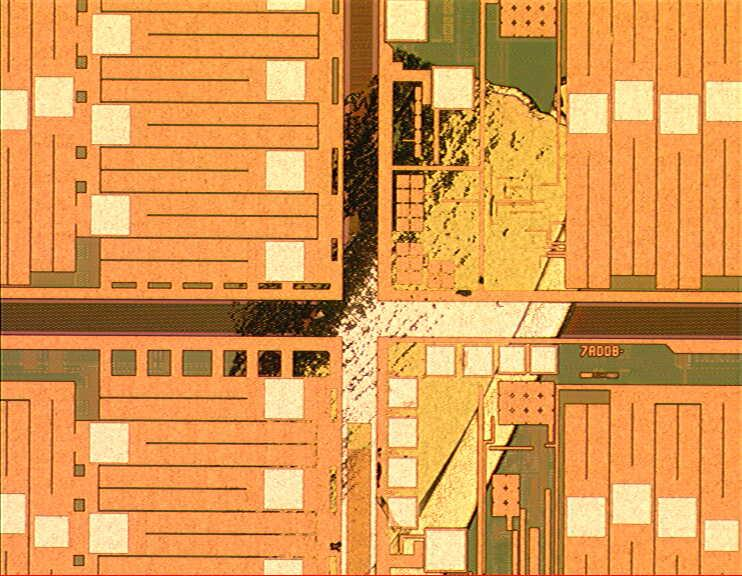BLOCK ETCH: (208, 39, 627, 576)
